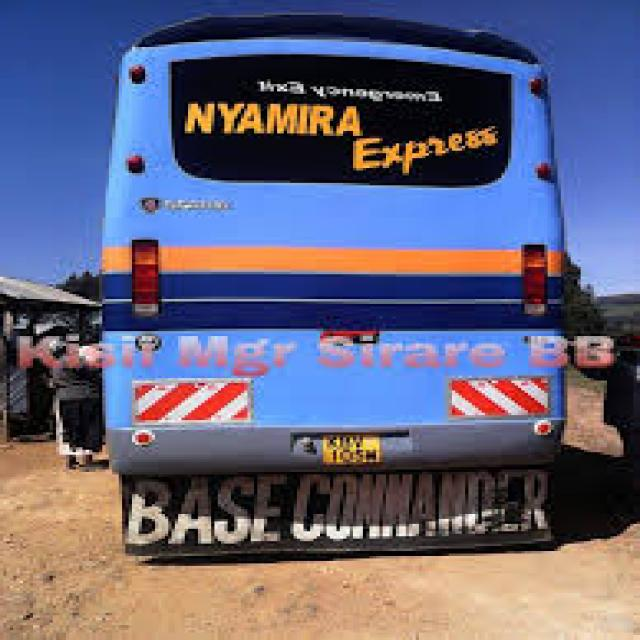bus: (66, 0, 614, 578)
